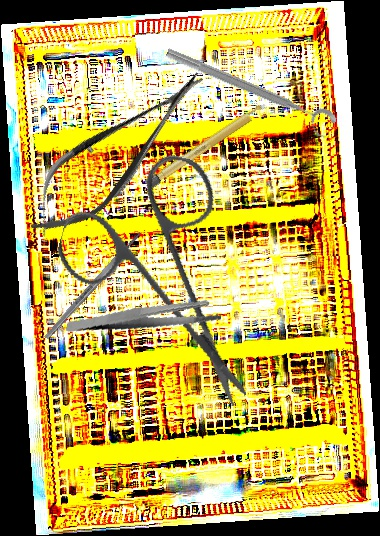Dressing Forceps: (65, 279, 224, 356)
Fixation Ring: (159, 43, 339, 142)
Iris Scissors: (30, 132, 301, 409)
Micro Scissor: (9, 53, 225, 253)
Scalpel Handle: (144, 100, 269, 191), (42, 230, 144, 341)
